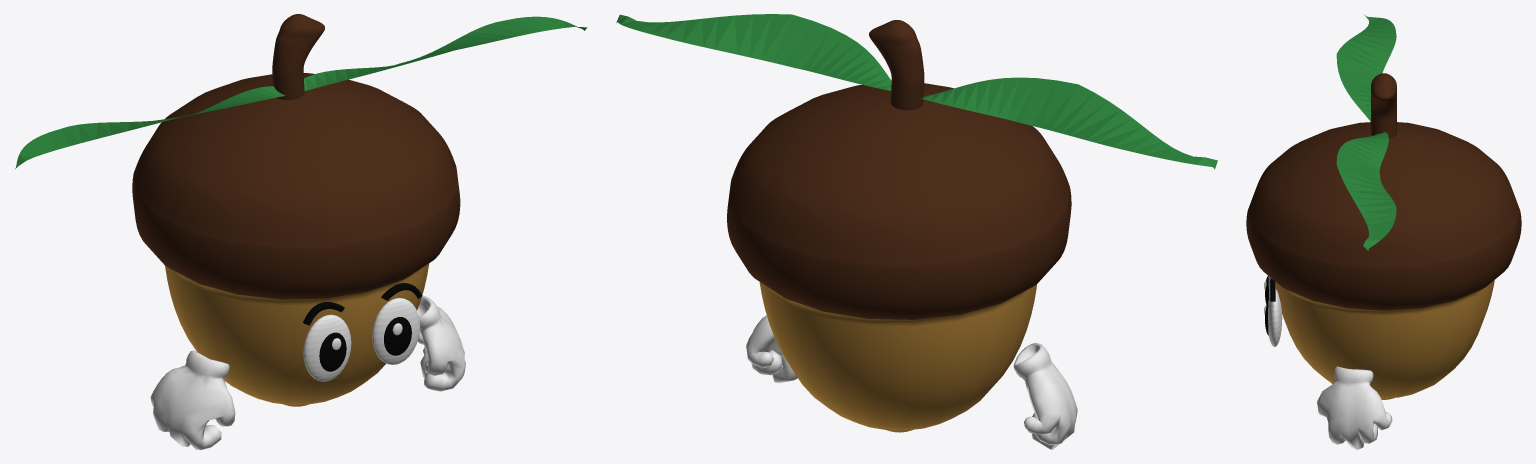
The model's file is bellota.fbx.
3 renders of one model, left to right at view 1: azimuth 30°, elevation 25°; view 2: azimuth 150°, elevation 25°; view 3: azimuth 270°, elevation 25°, orthographic. The views are drawn at different scales.
Visible parts, largest first — view 1: base, gloveLow_poly, hojas, esclerotica, raiz, iris, ceja; view 2: base, hojas, gloveLow_poly, raiz; view 3: base, hojas, gloveLow_poly, raiz, esclerotica.
Part boxes in pixels (x1=…): base: x1=132, y1=73, x2=460, y2=406; gloveLow_poly: x1=150, y1=295, x2=465, y2=449; hojas: x1=15, y1=16, x2=587, y2=168; esclerotica: x1=303, y1=298, x2=420, y2=381; raiz: x1=272, y1=14, x2=324, y2=99; iris: x1=319, y1=317, x2=411, y2=371; ceja: x1=303, y1=283, x2=422, y2=325; base: x1=727, y1=83, x2=1071, y2=432; hojas: x1=616, y1=14, x2=1217, y2=169; gloveLow_poly: x1=746, y1=315, x2=1077, y2=449; raiz: x1=869, y1=20, x2=924, y2=110; base: x1=1246, y1=122, x2=1521, y2=399; hojas: x1=1336, y1=15, x2=1396, y2=250; gloveLow_poly: x1=1317, y1=366, x2=1392, y2=449; raiz: x1=1371, y1=73, x2=1396, y2=138; esclerotica: x1=1268, y1=276, x2=1282, y2=346.
Size of the model in its own units: 198 by 129 by 99.32.
